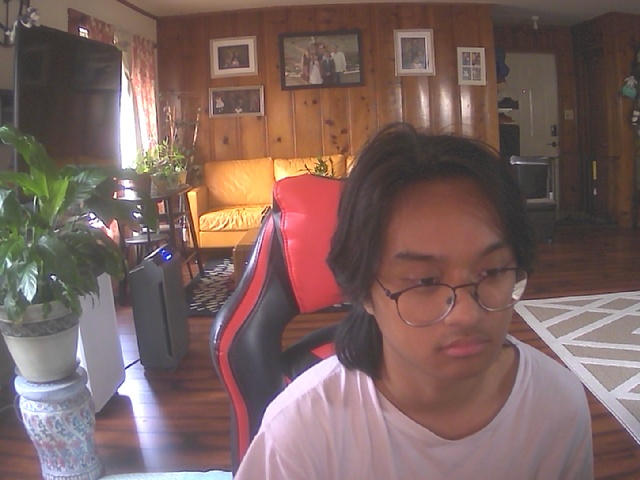neutral: (352, 147, 539, 386)
